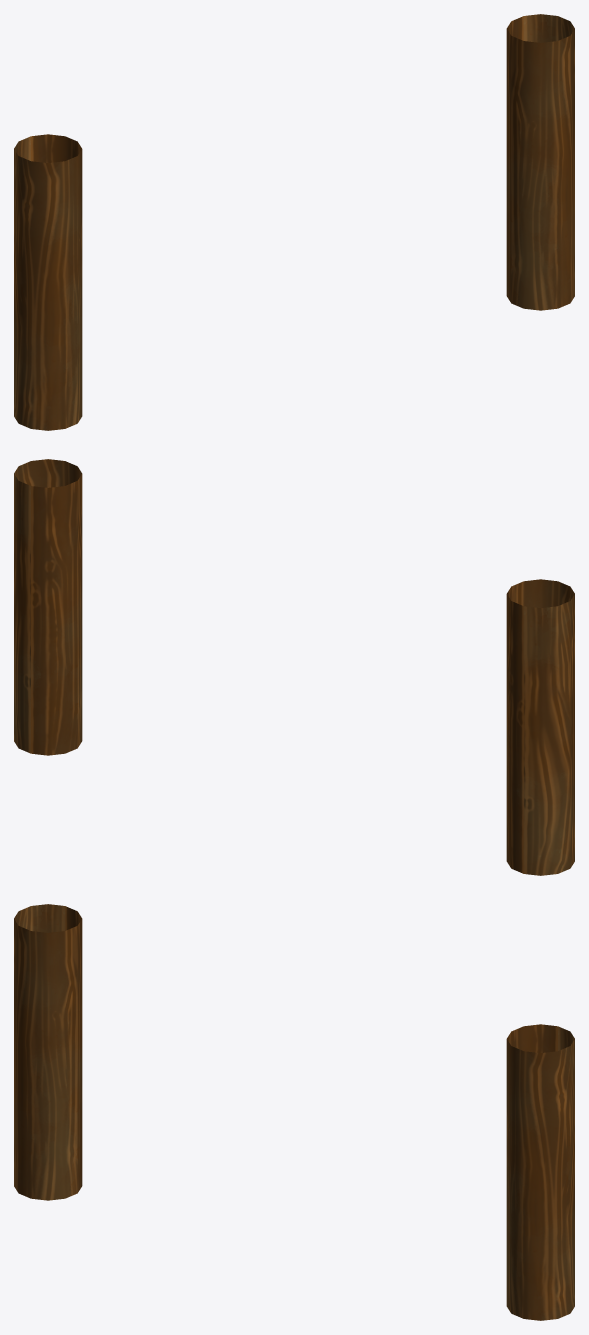
The picture shows the model from 3 angles, top to bottom: view 1: azimuth 30°, elevation 25°; view 2: azimuth 150°, elevation 25°; view 3: azimuth 330°, elevation 25°; orthographic projection.
Visible parts, largest first — view 1: Cylinder.091; view 2: Cylinder.091; view 3: Cylinder.091.
Boxes of the visible parts, bbox=[...] form: Cylinder.091: bbox=[14, 14, 574, 430]; Cylinder.091: bbox=[14, 459, 574, 875]; Cylinder.091: bbox=[14, 904, 574, 1320].
Bounding box in the file's own units: 270 × 125 × 28.9.
1 material, 1 textured.
